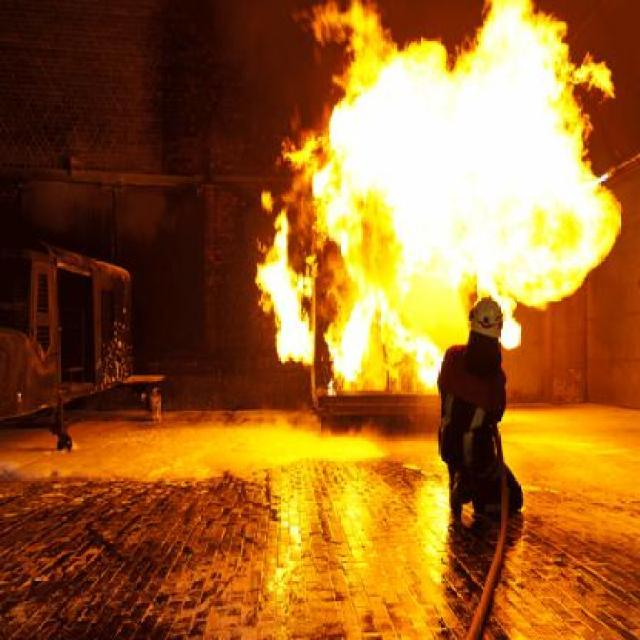Fire: (346, 27, 566, 275), (346, 266, 399, 392), (274, 216, 314, 367), (564, 120, 596, 278), (400, 278, 442, 397), (474, 271, 582, 300), (290, 0, 350, 48), (326, 98, 346, 234), (567, 52, 616, 100), (280, 130, 326, 173), (597, 184, 620, 262), (325, 324, 350, 388), (496, 296, 522, 349), (306, 151, 328, 211), (254, 256, 274, 310), (328, 232, 352, 260)
